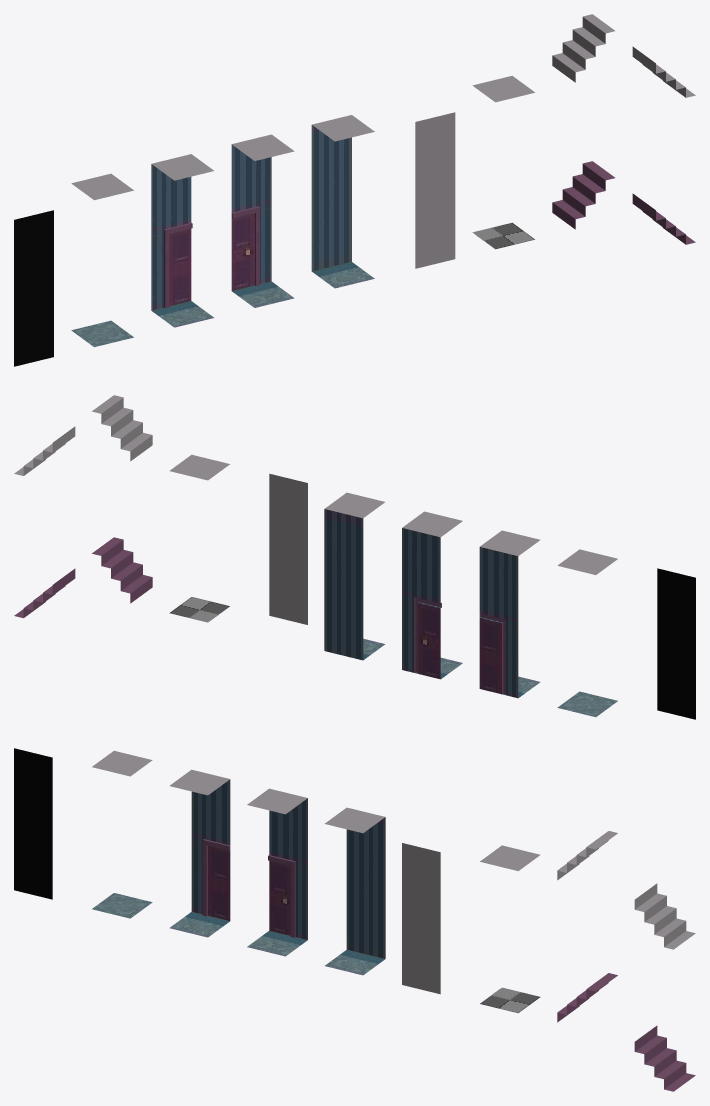
File: FloorTiles.glb
3 views of the same model, one above another, from view 1: azimuth 30°, elevation 25°; view 2: azimuth 150°, elevation 25°; view 3: azimuth 330°, elevation 25° (orthographic). The views are drawn at different scales.
Visible parts, largest first — view 1: Wall-col, DoorFrameLeft-col, DoorFrameRight-col, WallStarirs-col, BlackWall-col, StairsUp-col, FloorCeilingStarirs-col, FloorCeiling-col, StairsDown-col; view 2: DoorFrameLeft-col, Wall-col, DoorFrameRight-col, BlackWall-col, WallStarirs-col, StairsUp-col, FloorCeiling-col, FloorCeilingStarirs-col, StairsDown-col; view 3: DoorFrameLeft-col, Wall-col, DoorFrameRight-col, BlackWall-col, WallStarirs-col, StairsDown-col, FloorCeiling-col, FloorCeilingStarirs-col, StairsUp-col.
Part boxes in pixels (x1,y1,x2,y2): Wall-col: (311,115,374,288); DoorFrameLeft-col: (151,154,213,327); DoorFrameRight-col: (231,134,294,307); WallStarirs-col: (415,112,455,268); BlackWall-col: (14,210,53,366); StairsUp-col: (552,14,614,229); FloorCeilingStarirs-col: (472,75,534,249); FloorCeiling-col: (71,173,133,347); StairsDown-col: (632,46,695,244); DoorFrameLeft-col: (479,530,540,698); Wall-col: (324,492,385,660); DoorFrameRight-col: (402,511,462,679); BlackWall-col: (657,568,695,719); WallStarirs-col: (269,473,307,624); StairsUp-col: (92,395,152,603); FloorCeiling-col: (557,549,617,717); FloorCeilingStarirs-col: (169,454,229,622); StairsDown-col: (14,426,75,618); DoorFrameLeft-col: (169,769,230,937); Wall-col: (324,807,385,975); DoorFrameRight-col: (247,788,307,956); BlackWall-col: (14,748,52,899); WallStarirs-col: (402,843,440,994); StairsDown-col: (634,883,695,1091); FloorCeiling-col: (92,750,152,918); FloorCeilingStarirs-col: (480,845,540,1013); StairsUp-col: (557,831,617,1022).
Size of the model in its own units: 17 by 5.5 by 1.
4 materials, 4 textured.
